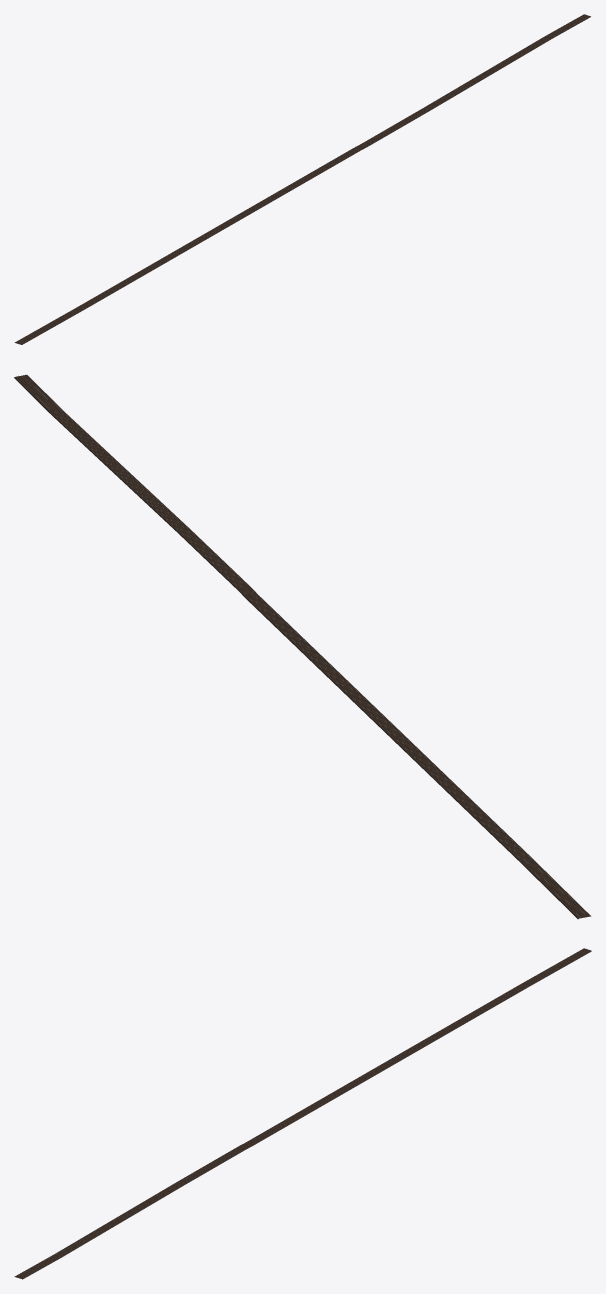
The model's file is kobe_0009.glb.
3 views of the same model, one above another, from view 1: azimuth 90°, elevation 25°; view 2: azimuth 150°, elevation 25°; view 3: azimuth 270°, elevation 25° (orthographic). The views are drawn at different scales.
Visible parts, largest first — view 1: ballast_top, oxidised_rail_profiles; view 2: ballast_top, oxidised_rail_profiles, ballast_left; view 3: ballast_top, oxidised_rail_profiles, ballast_left.
Boxes of the visible parts, <box> form: ballast_top: <box>14,14,590,344</box>; oxidised_rail_profiles: <box>15,14,589,344</box>; ballast_top: <box>15,375,590,918</box>; oxidised_rail_profiles: <box>16,374,588,917</box>; ballast_left: <box>14,377,578,919</box>; ballast_top: <box>14,948,590,1278</box>; oxidised_rail_profiles: <box>15,948,589,1278</box>; ballast_left: <box>22,951,591,1279</box>.
Bounding box in the file's own units: 614 × 0.819 × 453.
Materials: 4 (3 with a texture image).
